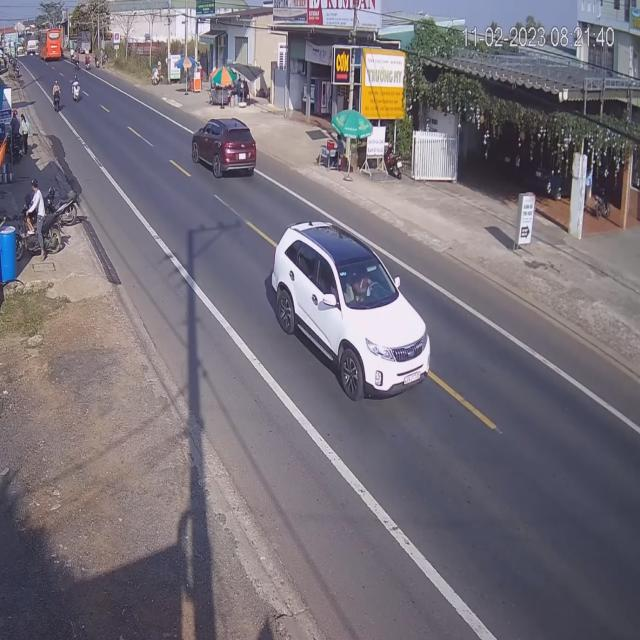bus: (41, 26, 62, 60)
car: (274, 219, 421, 398), (194, 116, 259, 178)
motorbike: (52, 81, 64, 112), (72, 79, 81, 103)
